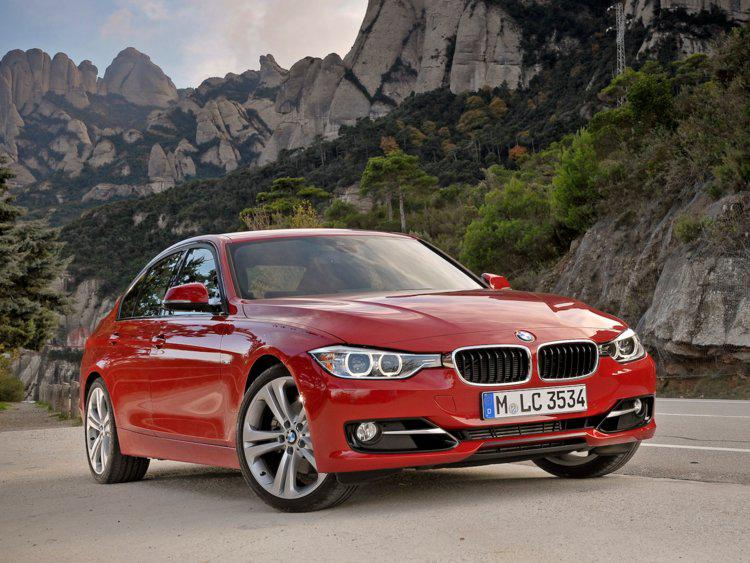car: (71, 217, 694, 522)
